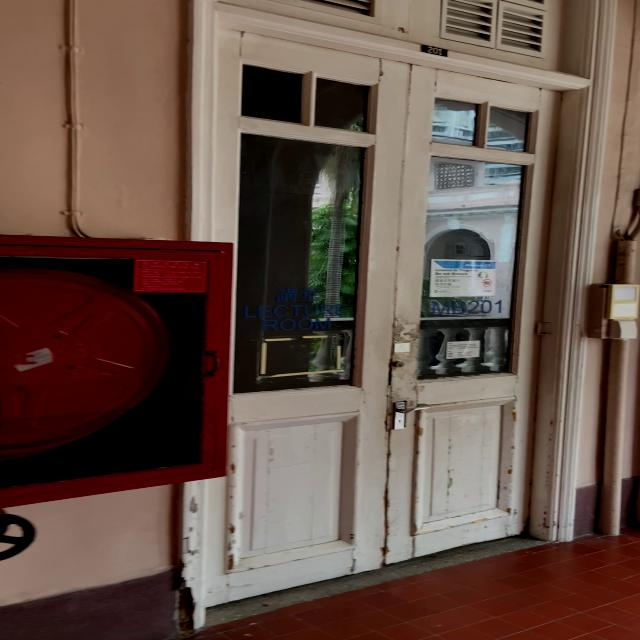room201: (419, 42, 447, 56)
room201Window: (428, 298, 506, 314)
